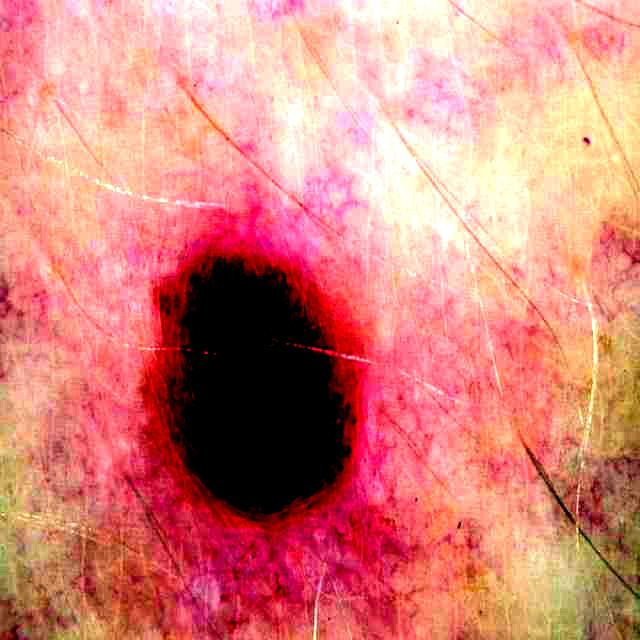VASC: (160, 256, 361, 519)
